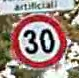limite 30: (9, 13, 67, 69)
